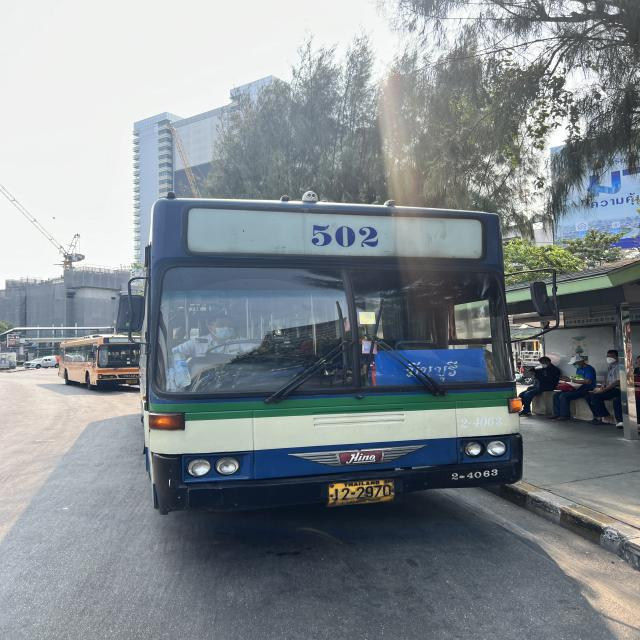BMTA-bus: (141, 198, 524, 518)
Bus-Line-Number: (304, 218, 384, 252)
Destination-Sign-Normal: (372, 349, 486, 384)
